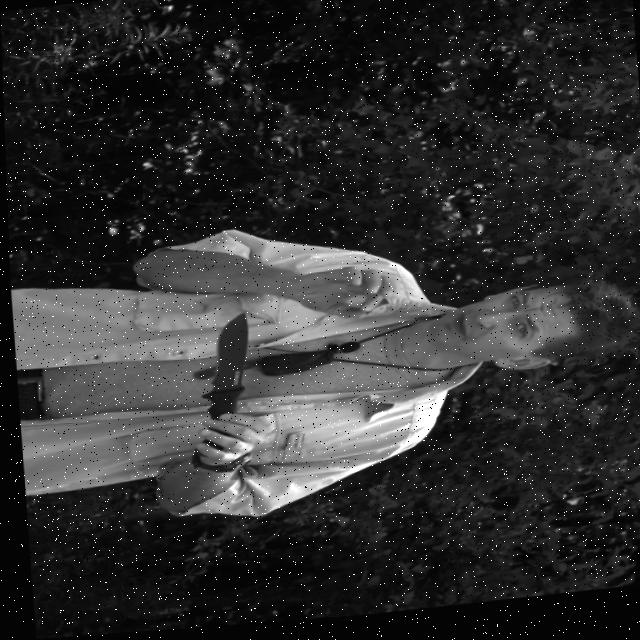knife: (190, 315, 249, 424)
